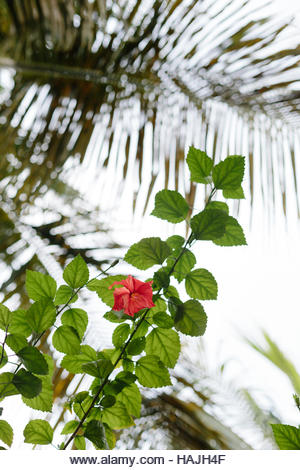Hibiscus: (103, 276, 167, 322)
